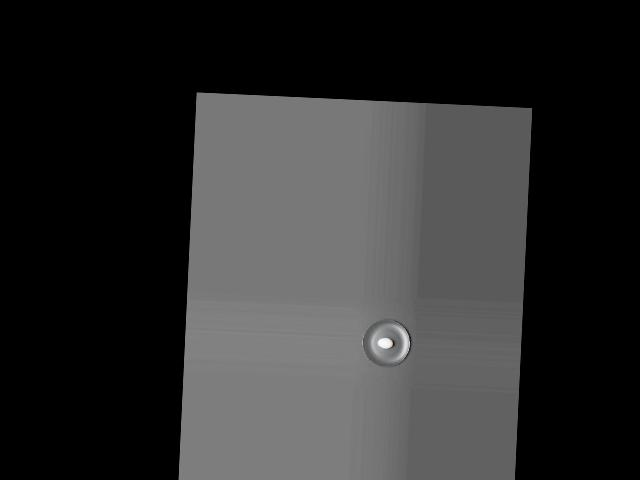egg: (377, 337, 393, 349)
